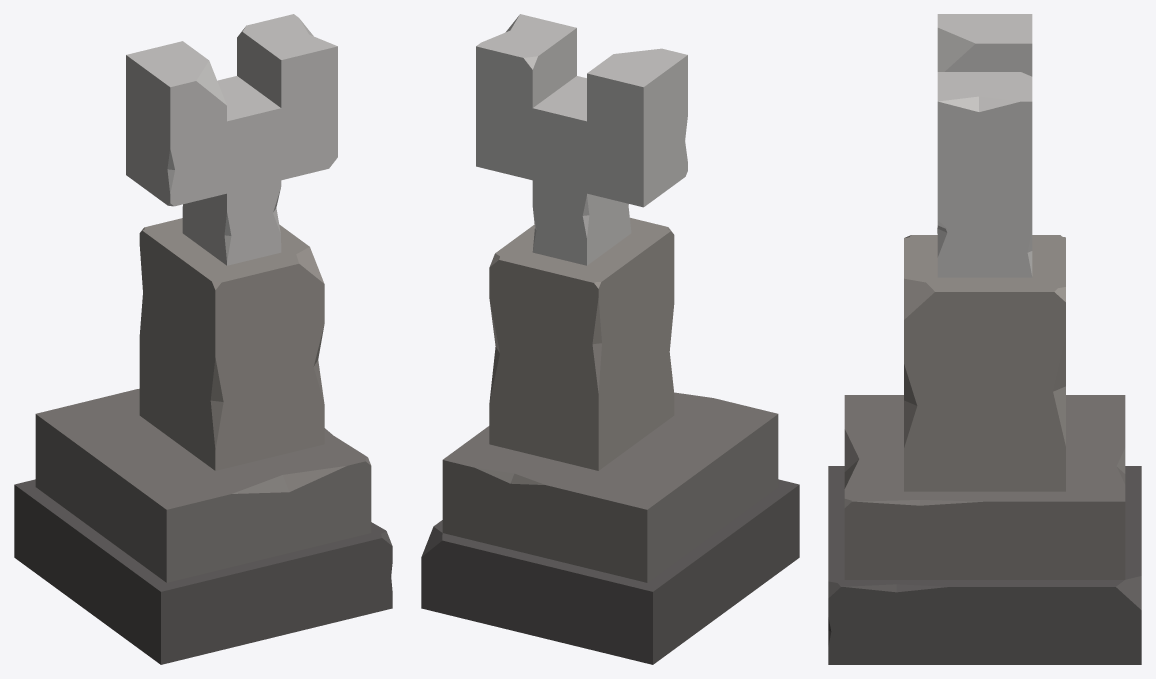
Rendered from SM_Env_Misc_08.fbx.
3 views of the same model, side by side, from view 1: azimuth 30°, elevation 25°; view 2: azimuth 150°, elevation 25°; view 3: azimuth 270°, elevation 25° (orthographic). The views are drawn at different scales.
Parts seen in each view (by area): view 1: SM_Env_Misc_08; view 2: SM_Env_Misc_08; view 3: SM_Env_Misc_08.
Part boxes in pixels (bbox=[...]): SM_Env_Misc_08: bbox=[14, 14, 392, 664]; SM_Env_Misc_08: bbox=[421, 14, 799, 664]; SM_Env_Misc_08: bbox=[828, 14, 1141, 664].
Bounding box in the file's own units: 61.62 × 134 × 67.57.
Materials: 1 (1 with a texture image).
